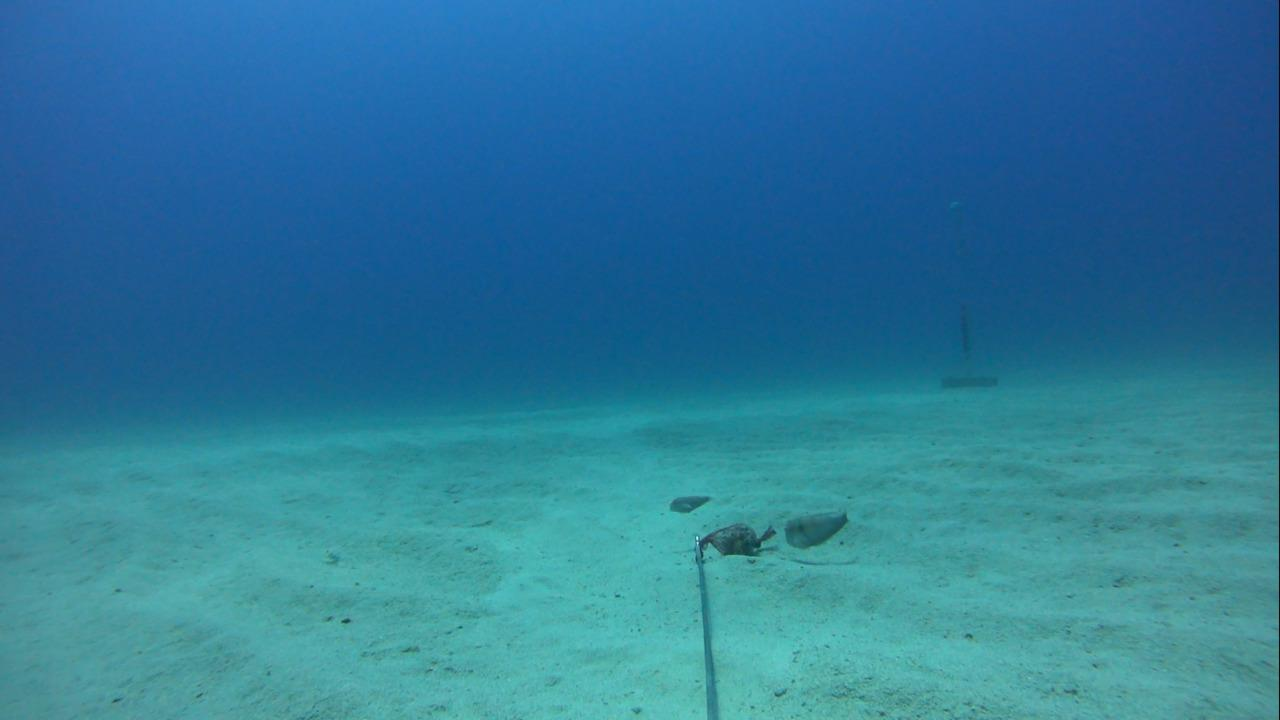raor: (778, 505, 858, 554), (659, 482, 717, 520)
